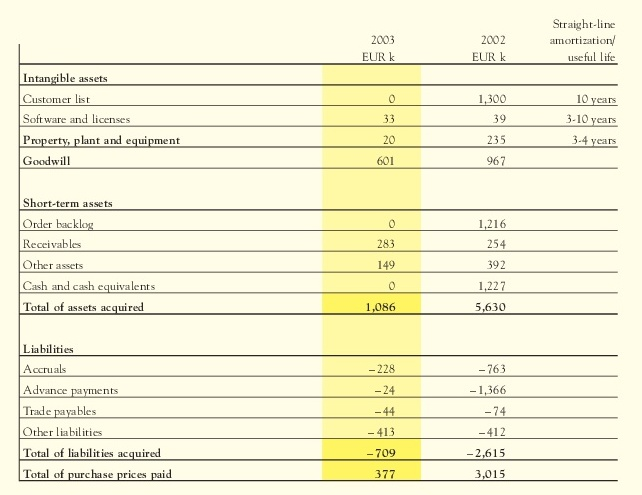table: (0, 0, 642, 495)
